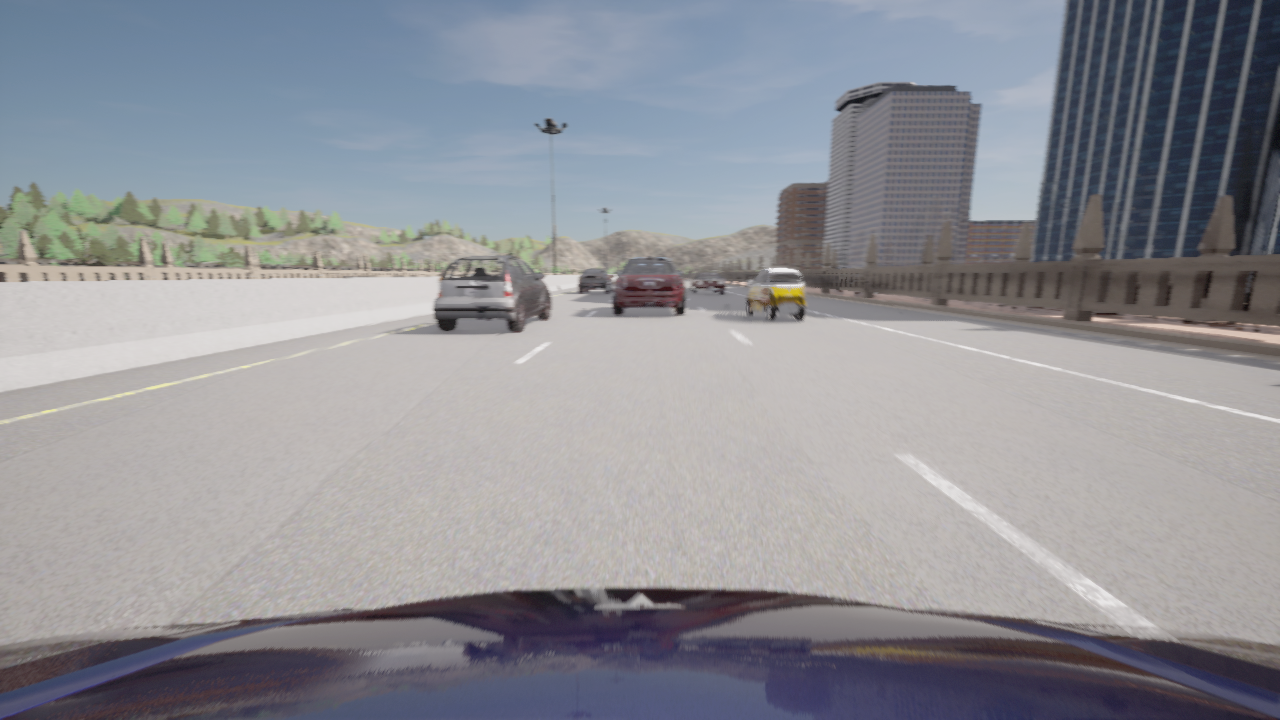cyclist: (0, 588, 1279, 719), (432, 255, 550, 331), (613, 254, 685, 314), (746, 267, 805, 320), (578, 269, 613, 293), (689, 273, 725, 293)
